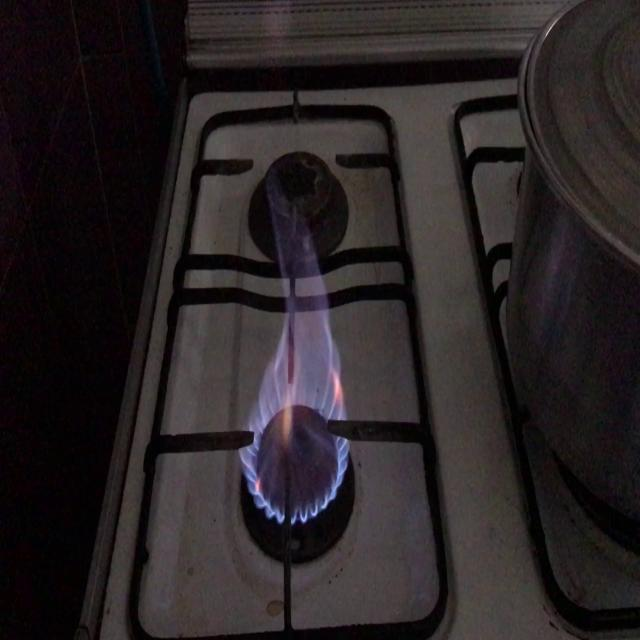Fire: (242, 224, 439, 640)
